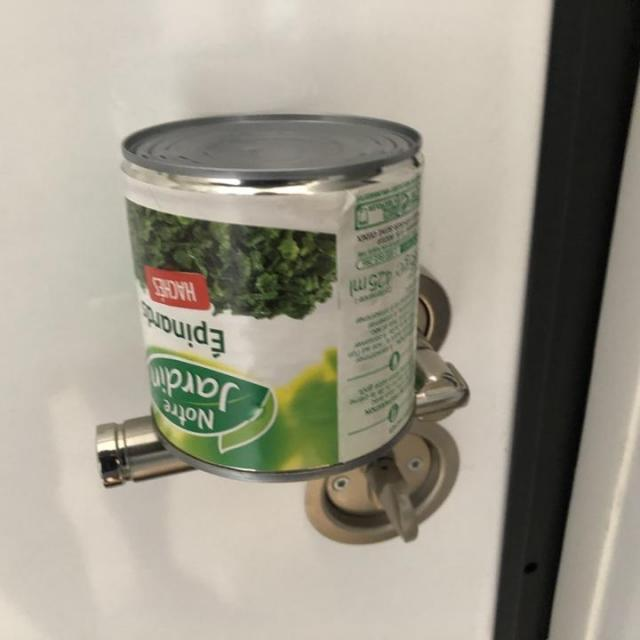recyclable: (123, 95, 438, 493)
